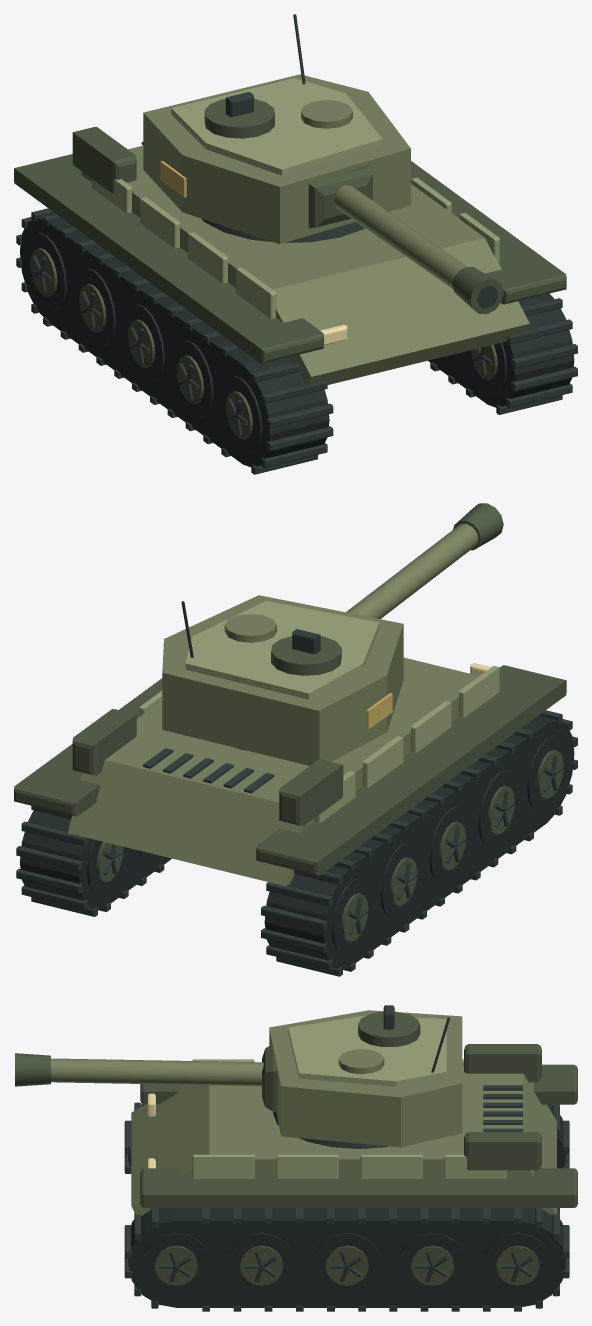
Rendered from tank.glb.
3 renders of one model, top to bottom at view 1: azimuth 30°, elevation 25°; view 2: azimuth 150°, elevation 25°; view 3: azimuth 270°, elevation 25°, orthographic. The views are drawn at different scales.
Visible parts, largest first — view 1: armored_hull_olive, tracks_rubber, track_guards_oliveDark, turret_olive, track_links_dark, turret_roof_oliveLight, road_wheels_rubber, side_armor_oliveLight, road_wheels_oliveDark, barrel_olive, stowage_oliveDark, mantlet_oliveDark (+6 smaller); view 2: armored_hull_olive, tracks_rubber, track_guards_oliveDark, turret_olive, track_links_dark, turret_roof_oliveLight, road_wheels_rubber, stowage_oliveDark, side_armor_oliveLight, road_wheels_oliveDark, barrel_olive, hatches_oliveDark (+5 smaller); view 3: tracks_rubber, armored_hull_olive, track_guards_oliveDark, turret_olive, road_wheels_rubber, turret_roof_oliveLight, side_armor_oliveLight, road_wheels_oliveDark, stowage_oliveDark, barrel_olive, track_links_dark, road_wheels_dark (+6 smaller).
Part boxes in pixels (x1=…): armored_hull_olive: x1=81, y1=145, x2=529, y2=385; tracks_rubber: x1=20, y1=213, x2=574, y2=467; track_guards_oliveDark: x1=14, y1=154, x2=566, y2=363; turret_olive: x1=143, y1=74, x2=410, y2=243; track_links_dark: x1=16, y1=208, x2=577, y2=474; turret_roof_oliveLight: x1=171, y1=78, x2=382, y2=175; road_wheels_rubber: x1=25, y1=232, x2=507, y2=453; side_armor_oliveLight: x1=92, y1=177, x2=499, y2=318; road_wheels_oliveDark: x1=30, y1=248, x2=497, y2=439; barrel_olive: x1=334, y1=185, x2=467, y2=288; stowage_oliveDark: x1=72, y1=127, x2=136, y2=193; mantlet_oliveDark: x1=308, y1=165, x2=372, y2=228; armored_hull_olive: x1=68, y1=657, x2=501, y2=886; tracks_rubber: x1=20, y1=715, x2=574, y2=969; track_guards_oliveDark: x1=14, y1=665, x2=566, y2=875; turret_olive: x1=162, y1=595, x2=403, y2=765; track_links_dark: x1=16, y1=710, x2=577, y2=976; turret_roof_oliveLight: x1=185, y1=601, x2=379, y2=699; road_wheels_rubber: x1=86, y1=734, x2=568, y2=955; stowage_oliveDark: x1=72, y1=709, x2=343, y2=825; side_armor_oliveLight: x1=140, y1=666, x2=499, y2=822; road_wheels_oliveDark: x1=96, y1=750, x2=563, y2=941; barrel_olive: x1=346, y1=524, x2=478, y2=618; hatches_oliveDark: x1=271, y1=636, x2=341, y2=675; tracks_rubber: x1=128, y1=1104, x2=565, y2=1307; armored_hull_olive: x1=131, y1=1066, x2=556, y2=1216; track_guards_oliveDark: x1=140, y1=1064, x2=577, y2=1207; turret_olive: x1=269, y1=1010, x2=462, y2=1147; road_wheels_rubber: x1=141, y1=1233, x2=552, y2=1296; turret_roof_oliveLight: x1=288, y1=1015, x2=446, y2=1086; side_armor_oliveLight: x1=192, y1=1059, x2=506, y2=1178; road_wheels_oliveDark: x1=154, y1=1245, x2=539, y2=1285; stowage_oliveDark: x1=464, y1=1044, x2=541, y2=1170; barrel_olive: x1=51, y1=1058, x2=263, y2=1086; track_links_dark: x1=124, y1=1102, x2=569, y2=1311; road_wheels_dark: x1=159, y1=1251, x2=532, y2=1282.
Bounding box in the file's own units: 1.37 × 1.18 × 2.4.
